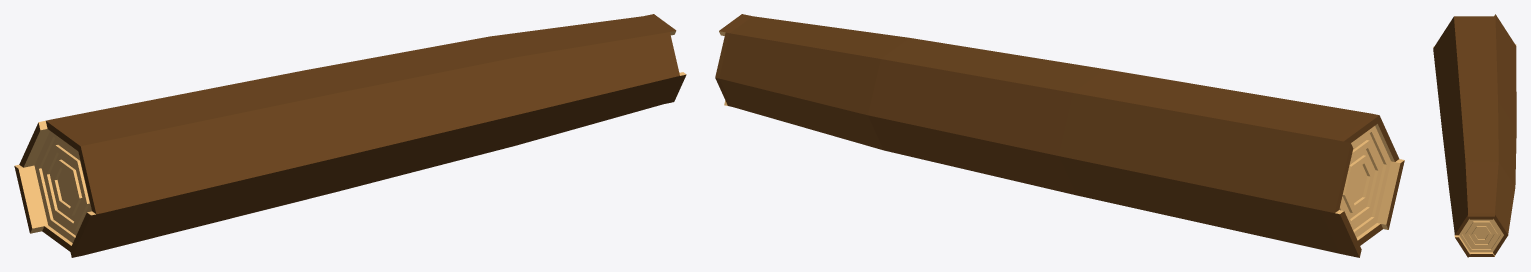
Rendered from troncoLongo3.fbx.
3 renders of one model, left to right at view 1: azimuth 30°, elevation 25°; view 2: azimuth 150°, elevation 25°; view 3: azimuth 270°, elevation 25°, orthographic. The views are drawn at different scales.
Parts seen in each view (by area): view 1: Circle.008; view 2: Circle.008; view 3: Circle.008.
Part boxes in pixels (box(x1,y1,x2,y2)): Circle.008: box(14, 14, 686, 257); Circle.008: box(715, 14, 1404, 257); Circle.008: box(1433, 14, 1516, 257).
Size of the model in its own units: 11.61 by 2.05 by 2.27.
